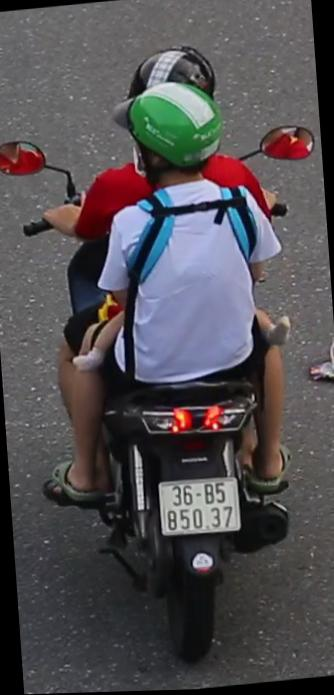LP: (154, 471, 244, 546)
helmet: (106, 76, 235, 222)
